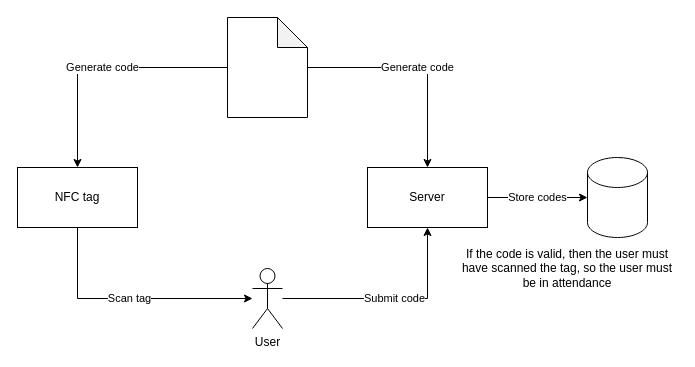
This 695x367 diagram has some shape labels left out. The box of each missing label's shape, as (x1, y1, x2, y2) in pixels:
Database (JSON files): (586, 156, 648, 238)
Shared secret: (226, 16, 308, 118)
